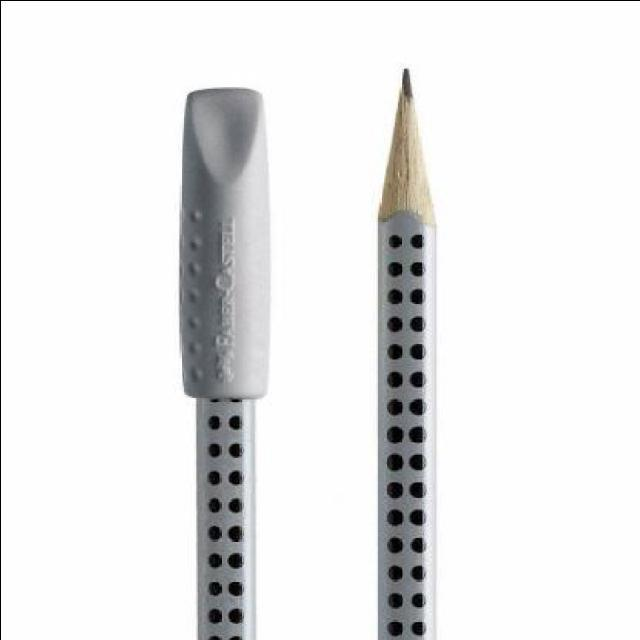pencil: (364, 57, 446, 265)
